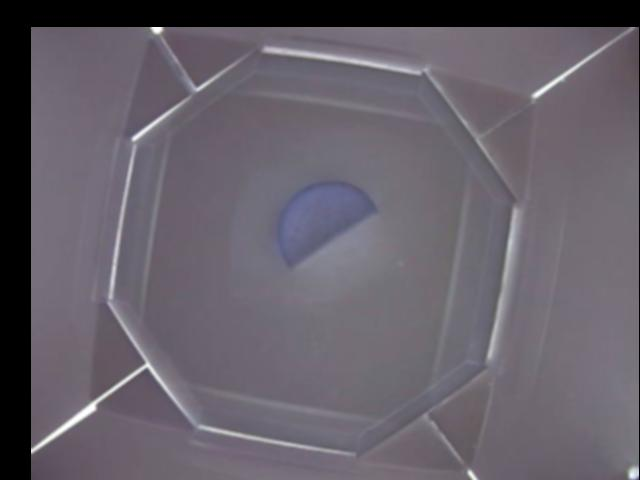Mooli: (273, 181, 380, 269)
